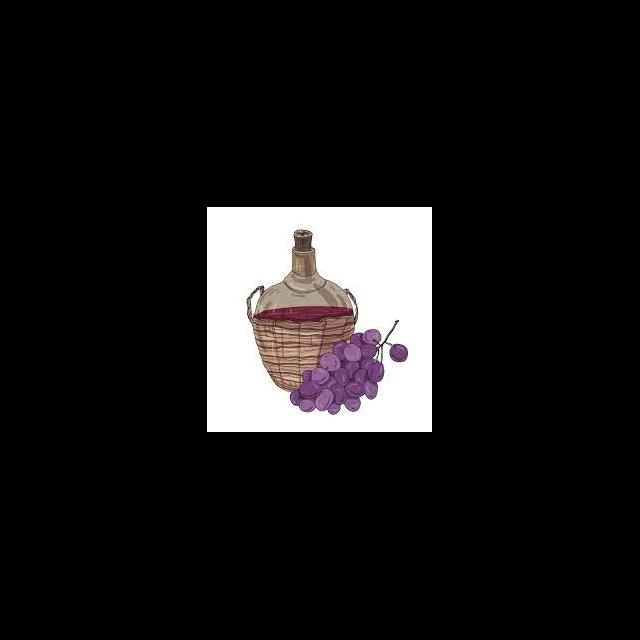grape: (290, 320, 408, 414)
